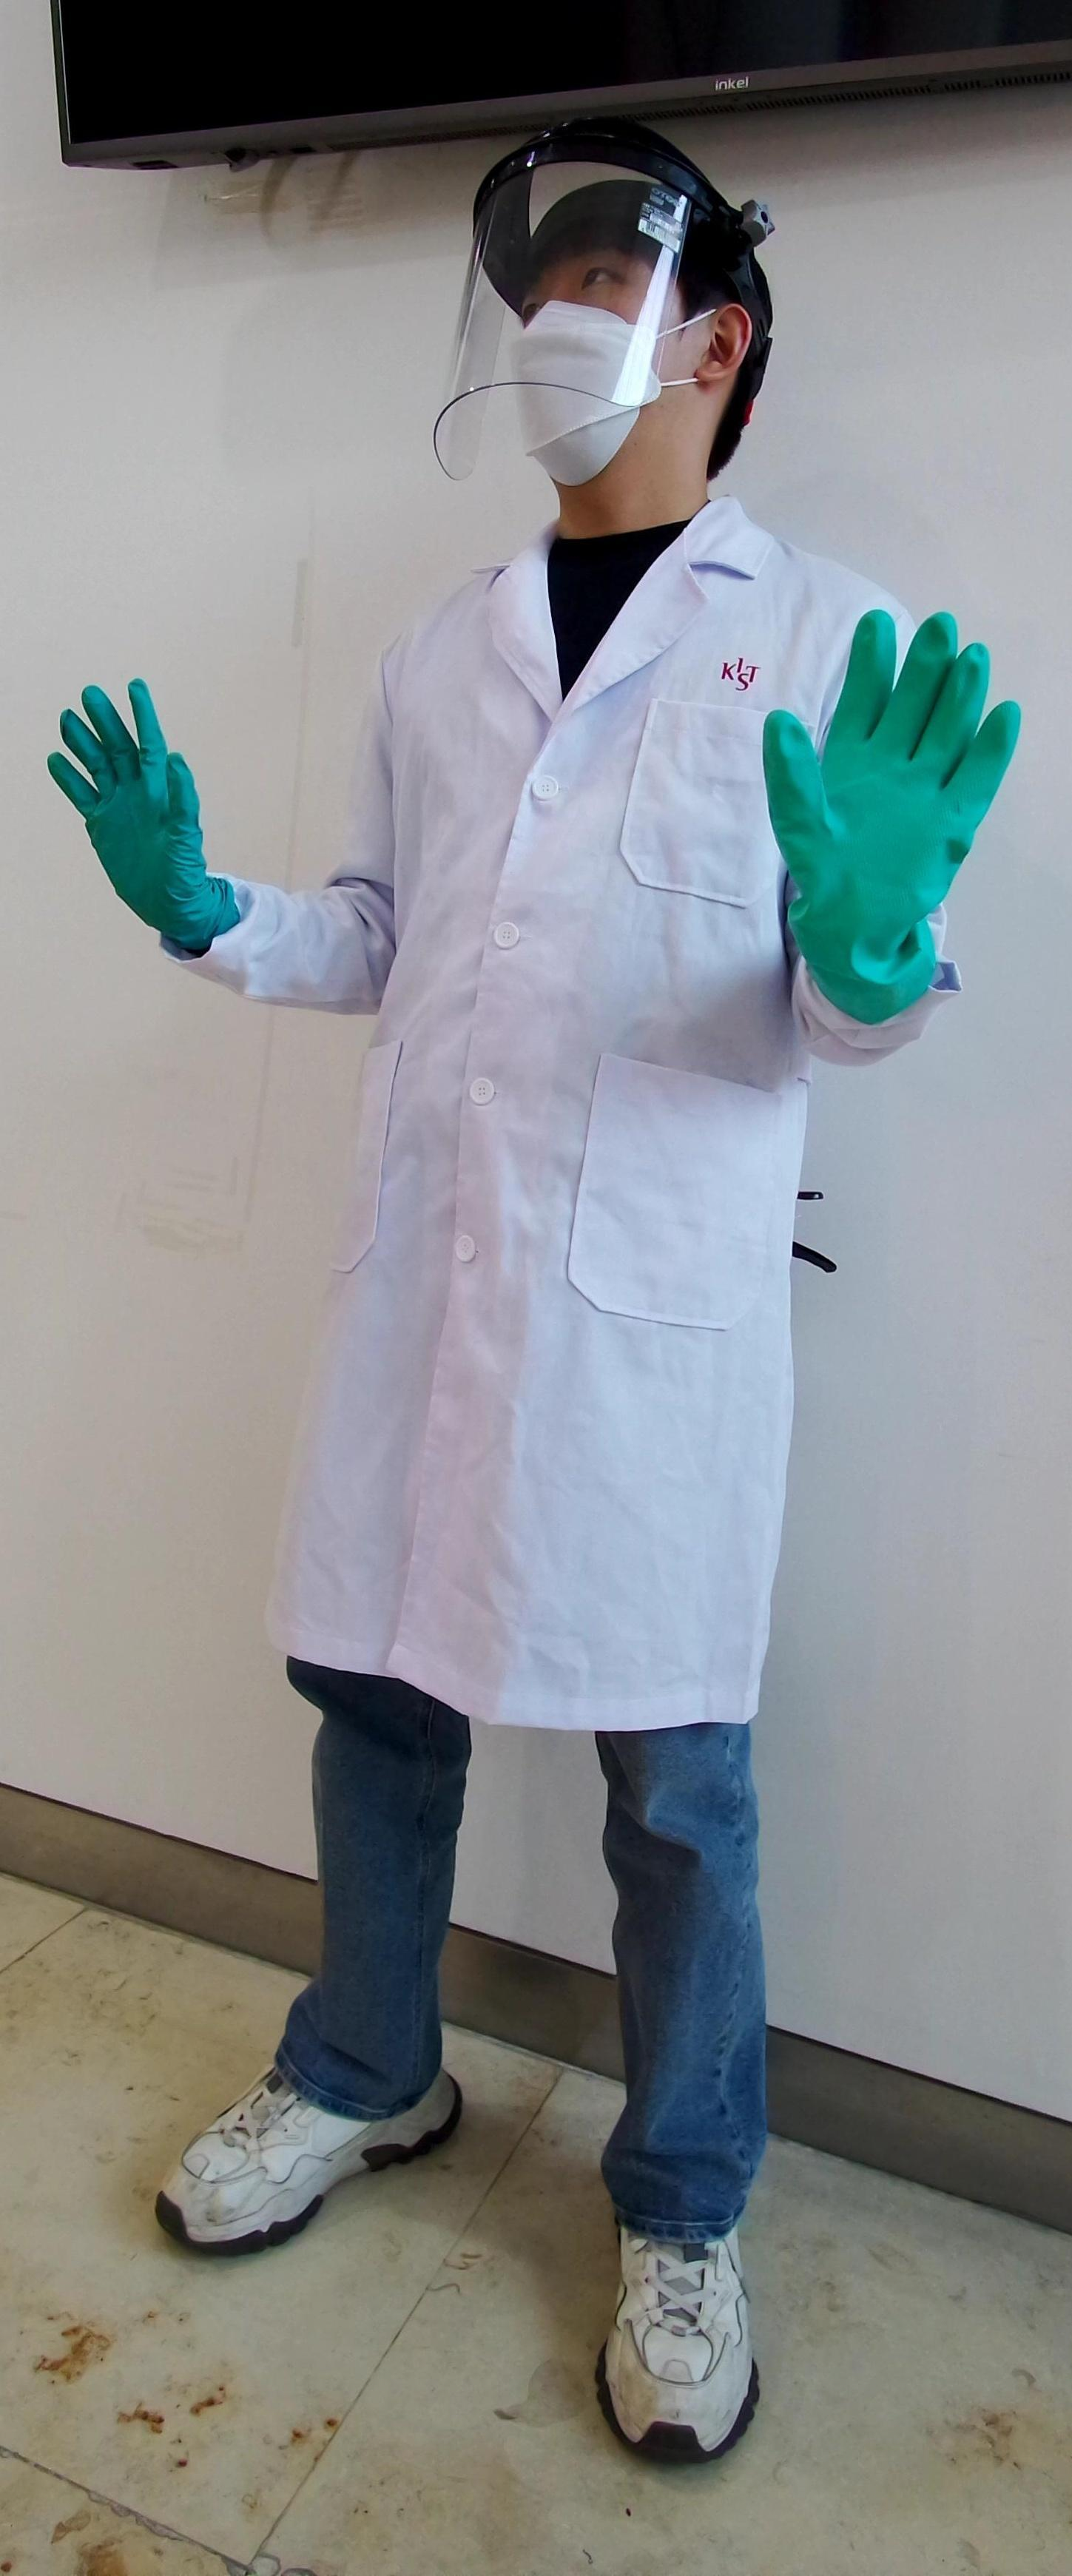lab_coat: (291, 563, 778, 1700)
